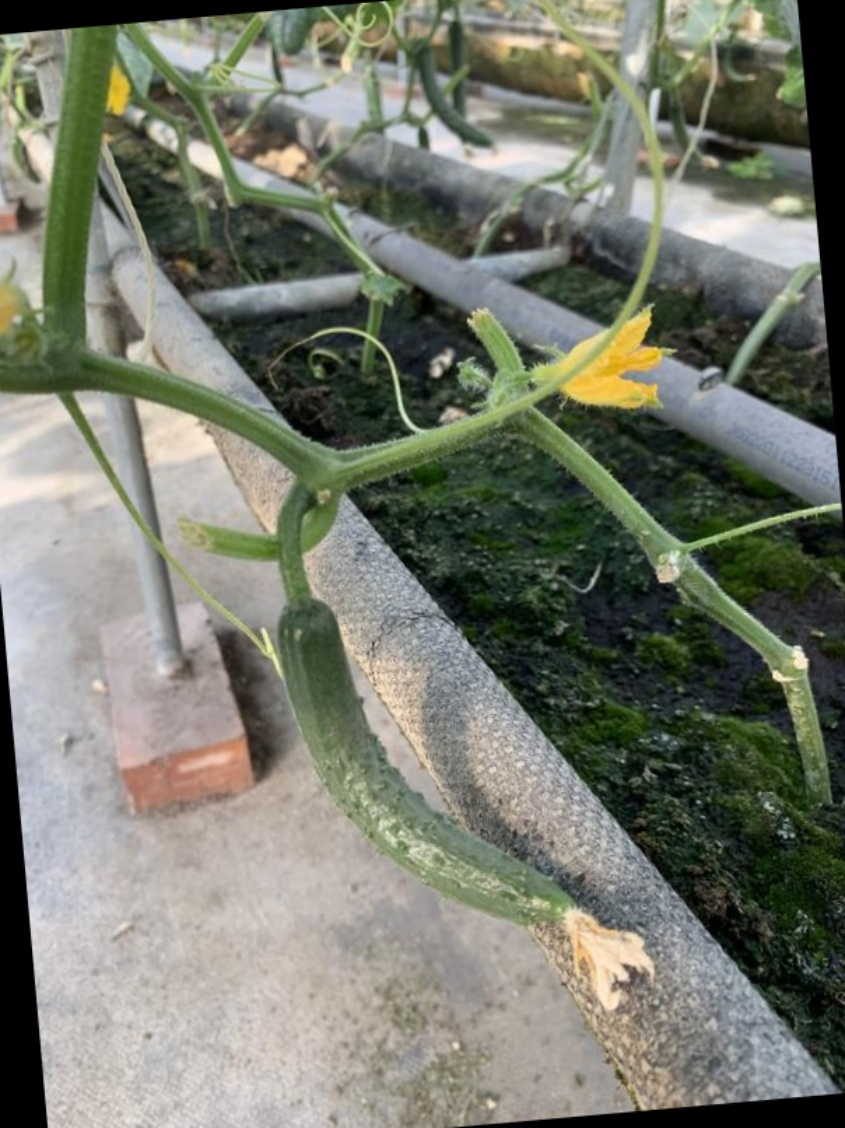growth: (272, 592, 638, 958)
